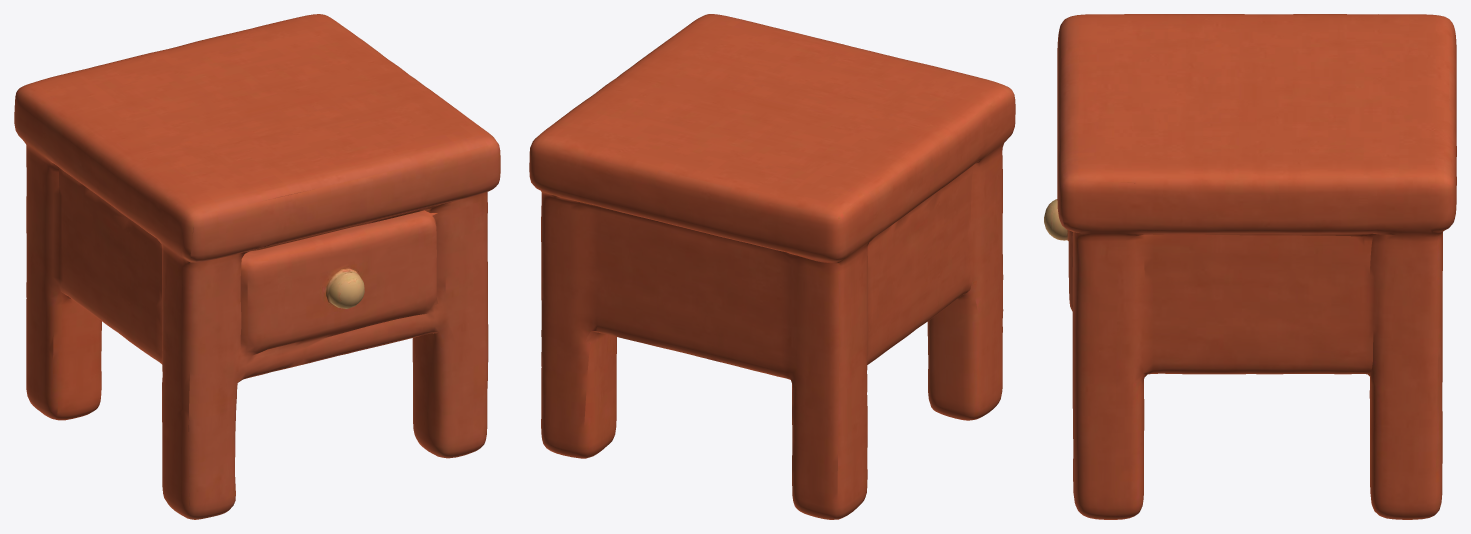
The model's file is Meshy_AI_model.glb.
3 renders of one model, left to right at view 1: azimuth 30°, elevation 25°; view 2: azimuth 150°, elevation 25°; view 3: azimuth 270°, elevation 25°, orthographic. The views are drawn at different scales.
Visible parts, largest first — view 1: Mesh0; view 2: Mesh0; view 3: Mesh0.
Boxes of the visible parts, x1,y1,x2,y2 form: Mesh0: (14,14,500,519); Mesh0: (529,14,1015,519); Mesh0: (1044,14,1456,519).
Size of the model in its own units: 1.85 by 1.8 by 1.9.
Materials: 1 (1 with a texture image).
